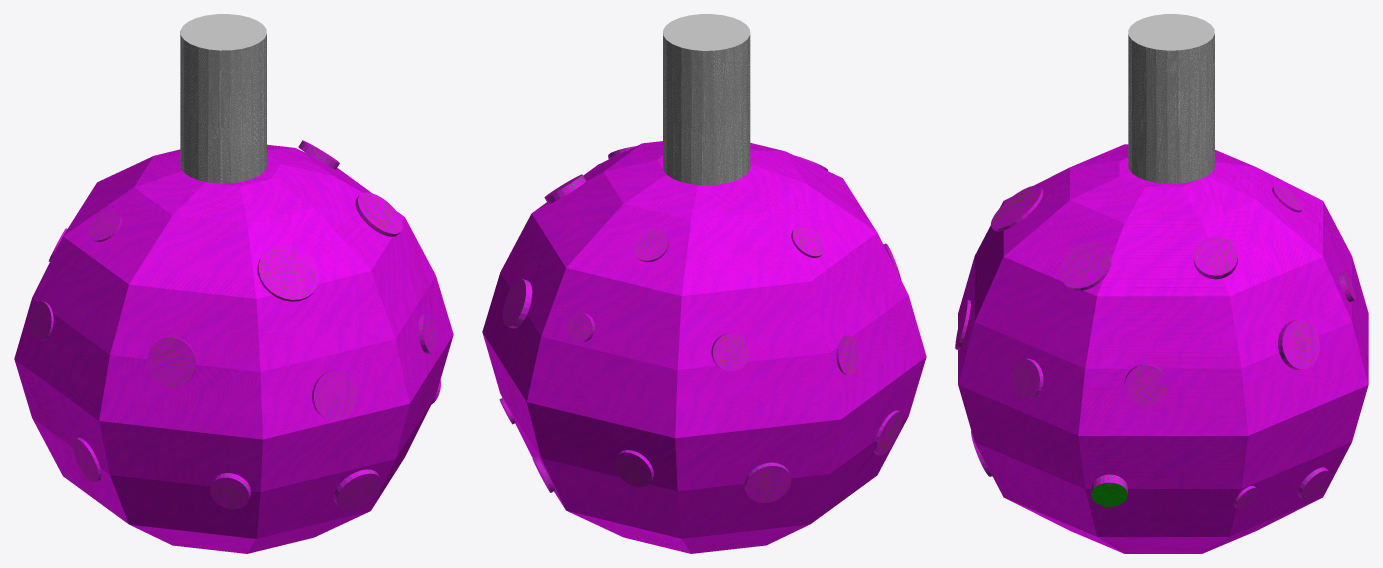
3 renders of one model, left to right at view 1: azimuth 30°, elevation 25°; view 2: azimuth 150°, elevation 25°; view 3: azimuth 270°, elevation 25°, orthographic.
Visible parts, largest first — view 1: mesh1.001_mesh1-geometry, mesh12_mesh12-geometry, mesh6.001_mesh6-geometry, mesh5.001_mesh5-geometry, mesh7.001_mesh7-geometry, mesh8.001_mesh8-geometry; view 2: mesh1.001_mesh1-geometry, mesh12_mesh12-geometry, mesh9.001_mesh9-geometry, mesh2.001_mesh2-geometry, mesh8.001_mesh8-geometry; view 3: mesh1.001_mesh1-geometry, mesh12_mesh12-geometry, mesh5.001_mesh5-geometry, mesh11.001_mesh11-geometry, mesh4.001_mesh4-geometry, mesh6.001_mesh6-geometry, mesh10.001_mesh10-geometry.
Part boxes in pixels (left/top/right/bottom): mesh1.001_mesh1-geometry: left=14, top=144, right=453, bottom=553; mesh12_mesh12-geometry: left=180, top=14, right=266, bottom=183; mesh6.001_mesh6-geometry: left=257, top=245, right=318, bottom=301; mesh5.001_mesh5-geometry: left=355, top=192, right=402, bottom=236; mesh7.001_mesh7-geometry: left=210, top=473, right=251, bottom=509; mesh8.001_mesh8-geometry: left=30, top=301, right=53, bottom=340; mesh1.001_mesh1-geometry: left=482, top=141, right=926, bottom=553; mesh12_mesh12-geometry: left=663, top=14, right=750, bottom=185; mesh9.001_mesh9-geometry: left=711, top=333, right=749, bottom=371; mesh2.001_mesh2-geometry: left=614, top=450, right=653, bottom=487; mesh8.001_mesh8-geometry: left=836, top=335, right=859, bottom=375; mesh1.001_mesh1-geometry: left=955, top=144, right=1368, bottom=553; mesh12_mesh12-geometry: left=1128, top=14, right=1214, bottom=183; mesh5.001_mesh5-geometry: left=1059, top=242, right=1111, bottom=290; mesh11.001_mesh11-geometry: left=1193, top=236, right=1237, bottom=279; mesh4.001_mesh4-geometry: left=1124, top=363, right=1167, bottom=406; mesh6.001_mesh6-geometry: left=990, top=185, right=1043, bottom=231; mesh10.001_mesh10-geometry: left=1091, top=474, right=1127, bottom=506.
Bounding box in the file's own units: 0.516 × 0.6827 × 0.5174.
Materials: 6 (2 with a texture image).
